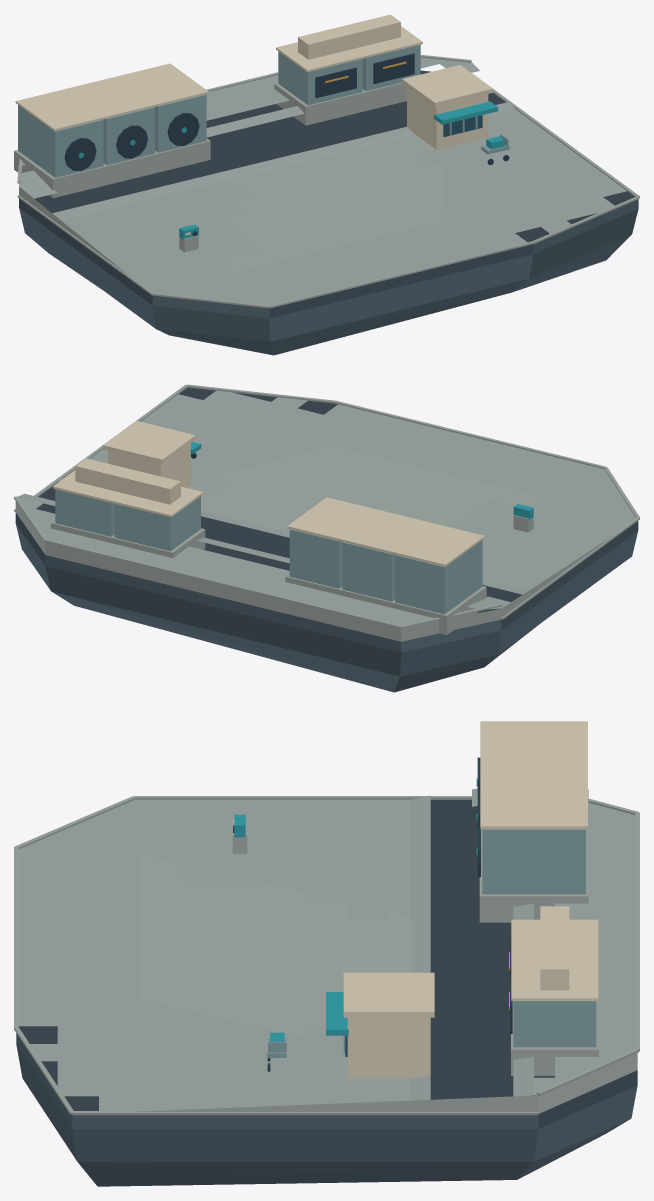
File: fi16-roof-cooling.glb
3 renders of one model, top to bottom at view 1: azimuth 30°, elevation 25°; view 2: azimuth 150°, elevation 25°; view 3: azimuth 270°, elevation 25°, orthographic. The views are drawn at different scales.
Parts seen in each view (by area): view 1: GEO_ground, GEO_foundation, GEO_forecourt, LAND_0_acbank, LAND_1_ducts, LAND_2_hut, GEO_rim, PROP_radio; view 2: GEO_ground, GEO_foundation, LAND_0_acbank, GEO_forecourt, GEO_rim, LAND_1_ducts, LAND_2_hut, PROP_radio; view 3: GEO_ground, GEO_foundation, GEO_forecourt, LAND_0_acbank, LAND_1_ducts, GEO_rim, LAND_2_hut.
Boxes of the visible parts, x1,y1,x2,y2 form: GEO_ground: [19, 57, 626, 305]; GEO_foundation: [19, 70, 638, 355]; GEO_forecourt: [228, 132, 446, 280]; LAND_0_acbank: [14, 63, 210, 198]; LAND_1_ducts: [274, 14, 422, 125]; LAND_2_hut: [402, 65, 498, 150]; GEO_rim: [17, 55, 639, 308]; PROP_radio: [179, 224, 198, 252]; GEO_ground: [17, 390, 635, 625]; GEO_foundation: [15, 387, 638, 692]; LAND_0_acbank: [285, 497, 486, 635]; GEO_forecourt: [188, 446, 568, 532]; GEO_rim: [14, 384, 639, 641]; LAND_1_ducts: [51, 458, 205, 557]; LAND_2_hut: [103, 421, 201, 487]; PROP_radio: [513, 504, 533, 532]; GEO_ground: [18, 788, 635, 1110]; GEO_foundation: [16, 800, 637, 1186]; GEO_forecourt: [115, 848, 413, 1046]; LAND_0_acbank: [476, 721, 588, 922]; LAND_1_ducts: [509, 906, 598, 1075]; GEO_rim: [14, 796, 639, 1115]; LAND_2_hut: [326, 972, 434, 1078].
Bounding box in the file's own units: 36.22 × 9.9 × 30.22.
